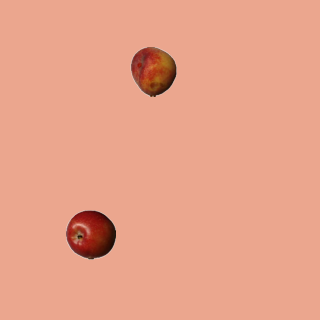Apple Braeburn: (65, 209, 115, 259)
Peach: (128, 46, 178, 96)
